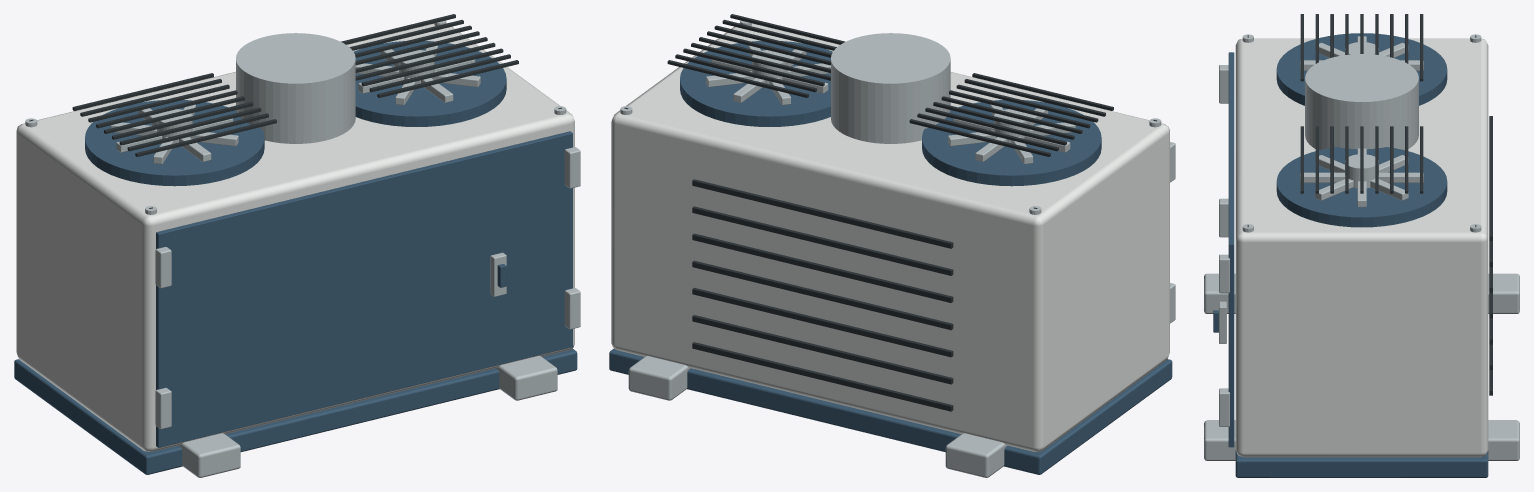
Rendered from container-inspection-and-customs-yard-container-inspec-a7e7dbb9__29320.glb.
3 views of the same model, side by side, from view 1: azimuth 30°, elevation 25°; view 2: azimuth 150°, elevation 25°; view 3: azimuth 270°, elevation 25° (orthographic). The views are drawn at different scales.
Visible parts, largest first — view 1: container-inspection-and-customs-yard-ventilation-skid; view 2: container-inspection-and-customs-yard-ventilation-skid; view 3: container-inspection-and-customs-yard-ventilation-skid.
Part boxes in pixels (<box>): container-inspection-and-customs-yard-ventilation-skid: <box>14,14,580,477</box>; container-inspection-and-customs-yard-ventilation-skid: <box>609,14,1175,477</box>; container-inspection-and-customs-yard-ventilation-skid: <box>1204,14,1519,477</box>.
Bounding box in the file's own units: 1.5 × 1.05 × 0.9999.
